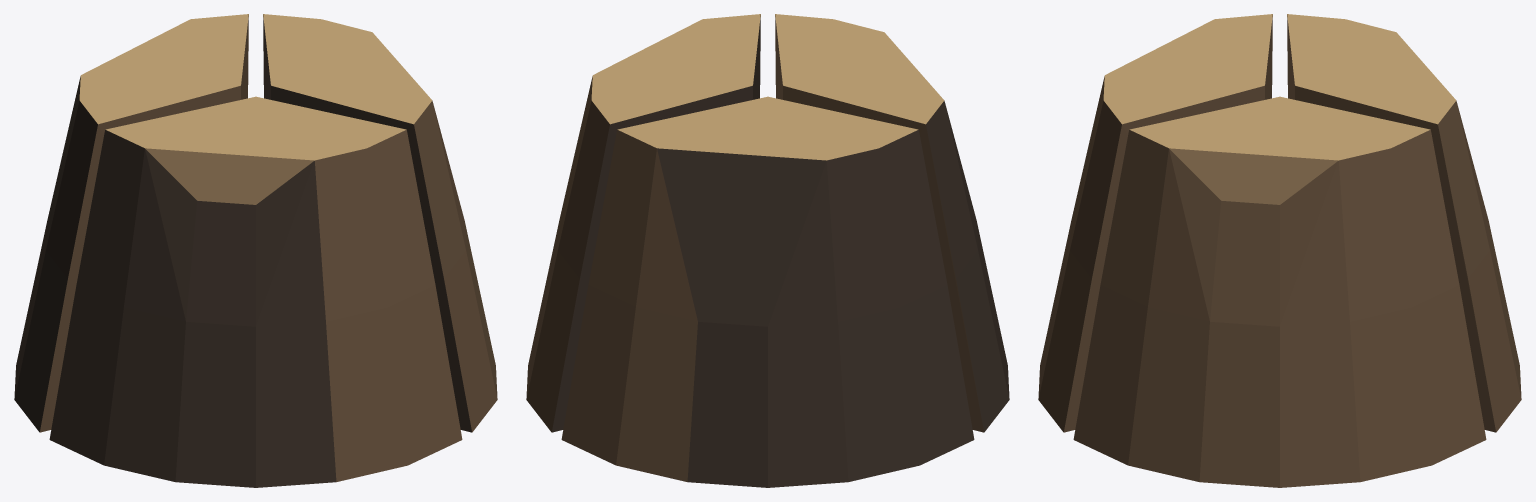
The model's file is TW_PROP_STUMP_SPLIT_B_LOD0.glb.
3 views of the same model, side by side, from view 1: azimuth 30°, elevation 25°; view 2: azimuth 150°, elevation 25°; view 3: azimuth 270°, elevation 25° (orthographic).
Visible parts, largest first — view 1: TW_PROP_STUMP_SPLIT_B_LOD0; view 2: TW_PROP_STUMP_SPLIT_B_LOD0; view 3: TW_PROP_STUMP_SPLIT_B_LOD0.
Boxes of the visible parts, left/top/right/bottom form: TW_PROP_STUMP_SPLIT_B_LOD0: left=14, top=14, right=497, bottom=487; TW_PROP_STUMP_SPLIT_B_LOD0: left=526, top=14, right=1009, bottom=487; TW_PROP_STUMP_SPLIT_B_LOD0: left=1038, top=14, right=1521, bottom=487.
Bounding box in the file's own units: 0.9886 × 0.66 × 0.9782.
1 material, 1 textured.
